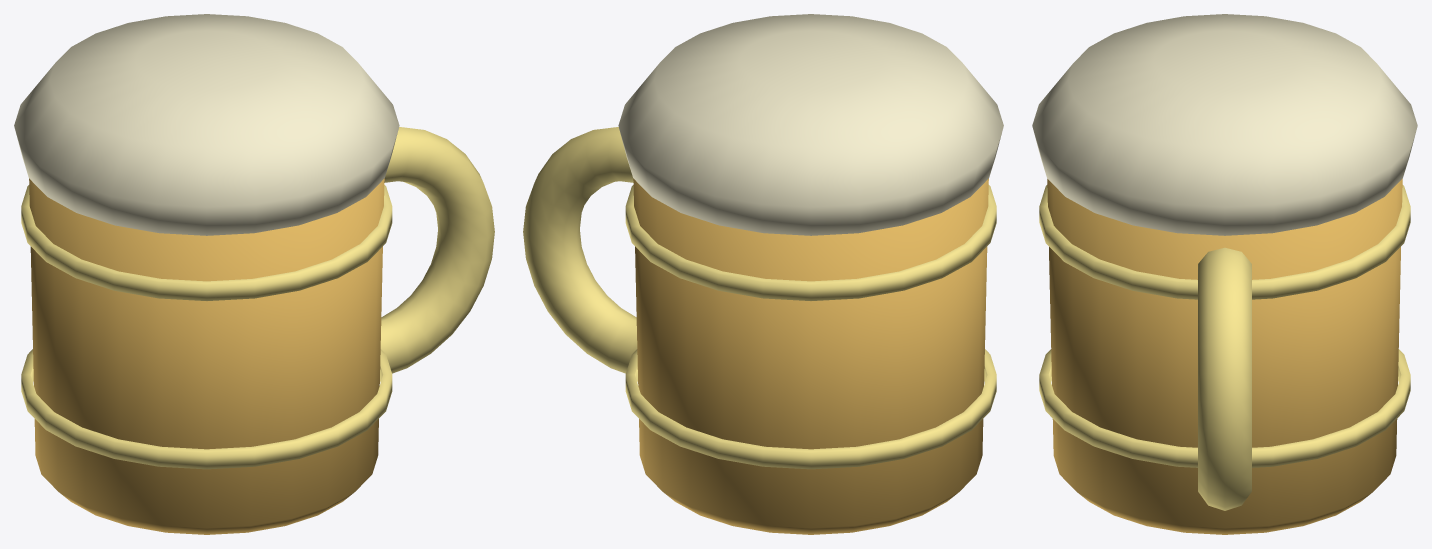
The model's file is bar.glb.
The picture shows the model from 3 angles, left to right: view 1: azimuth 30°, elevation 25°; view 2: azimuth 150°, elevation 25°; view 3: azimuth 270°, elevation 25°; orthographic projection.
Visible parts, largest first — view 1: mug, foam, handle, ring0, ring1; view 2: mug, foam, handle, ring0, ring1; view 3: mug, foam, handle, ring0, ring1.
Part boxes in pixels (x1,y1,x2,y2): mug: [29, 178, 384, 534]; foam: [14, 14, 399, 235]; handle: [380, 127, 494, 373]; ring0: [21, 349, 392, 469]; ring1: [21, 185, 392, 300]; mug: [633, 178, 988, 534]; foam: [618, 14, 1003, 235]; handle: [523, 127, 637, 373]; ring0: [625, 349, 996, 469]; ring1: [625, 185, 996, 300]; mug: [1047, 179, 1402, 534]; foam: [1032, 14, 1417, 235]; handle: [1198, 247, 1251, 510]; ring0: [1039, 349, 1410, 467]; ring1: [1039, 185, 1410, 299].
Size of the model in its own units: 0.73 by 0.635 by 0.54.
